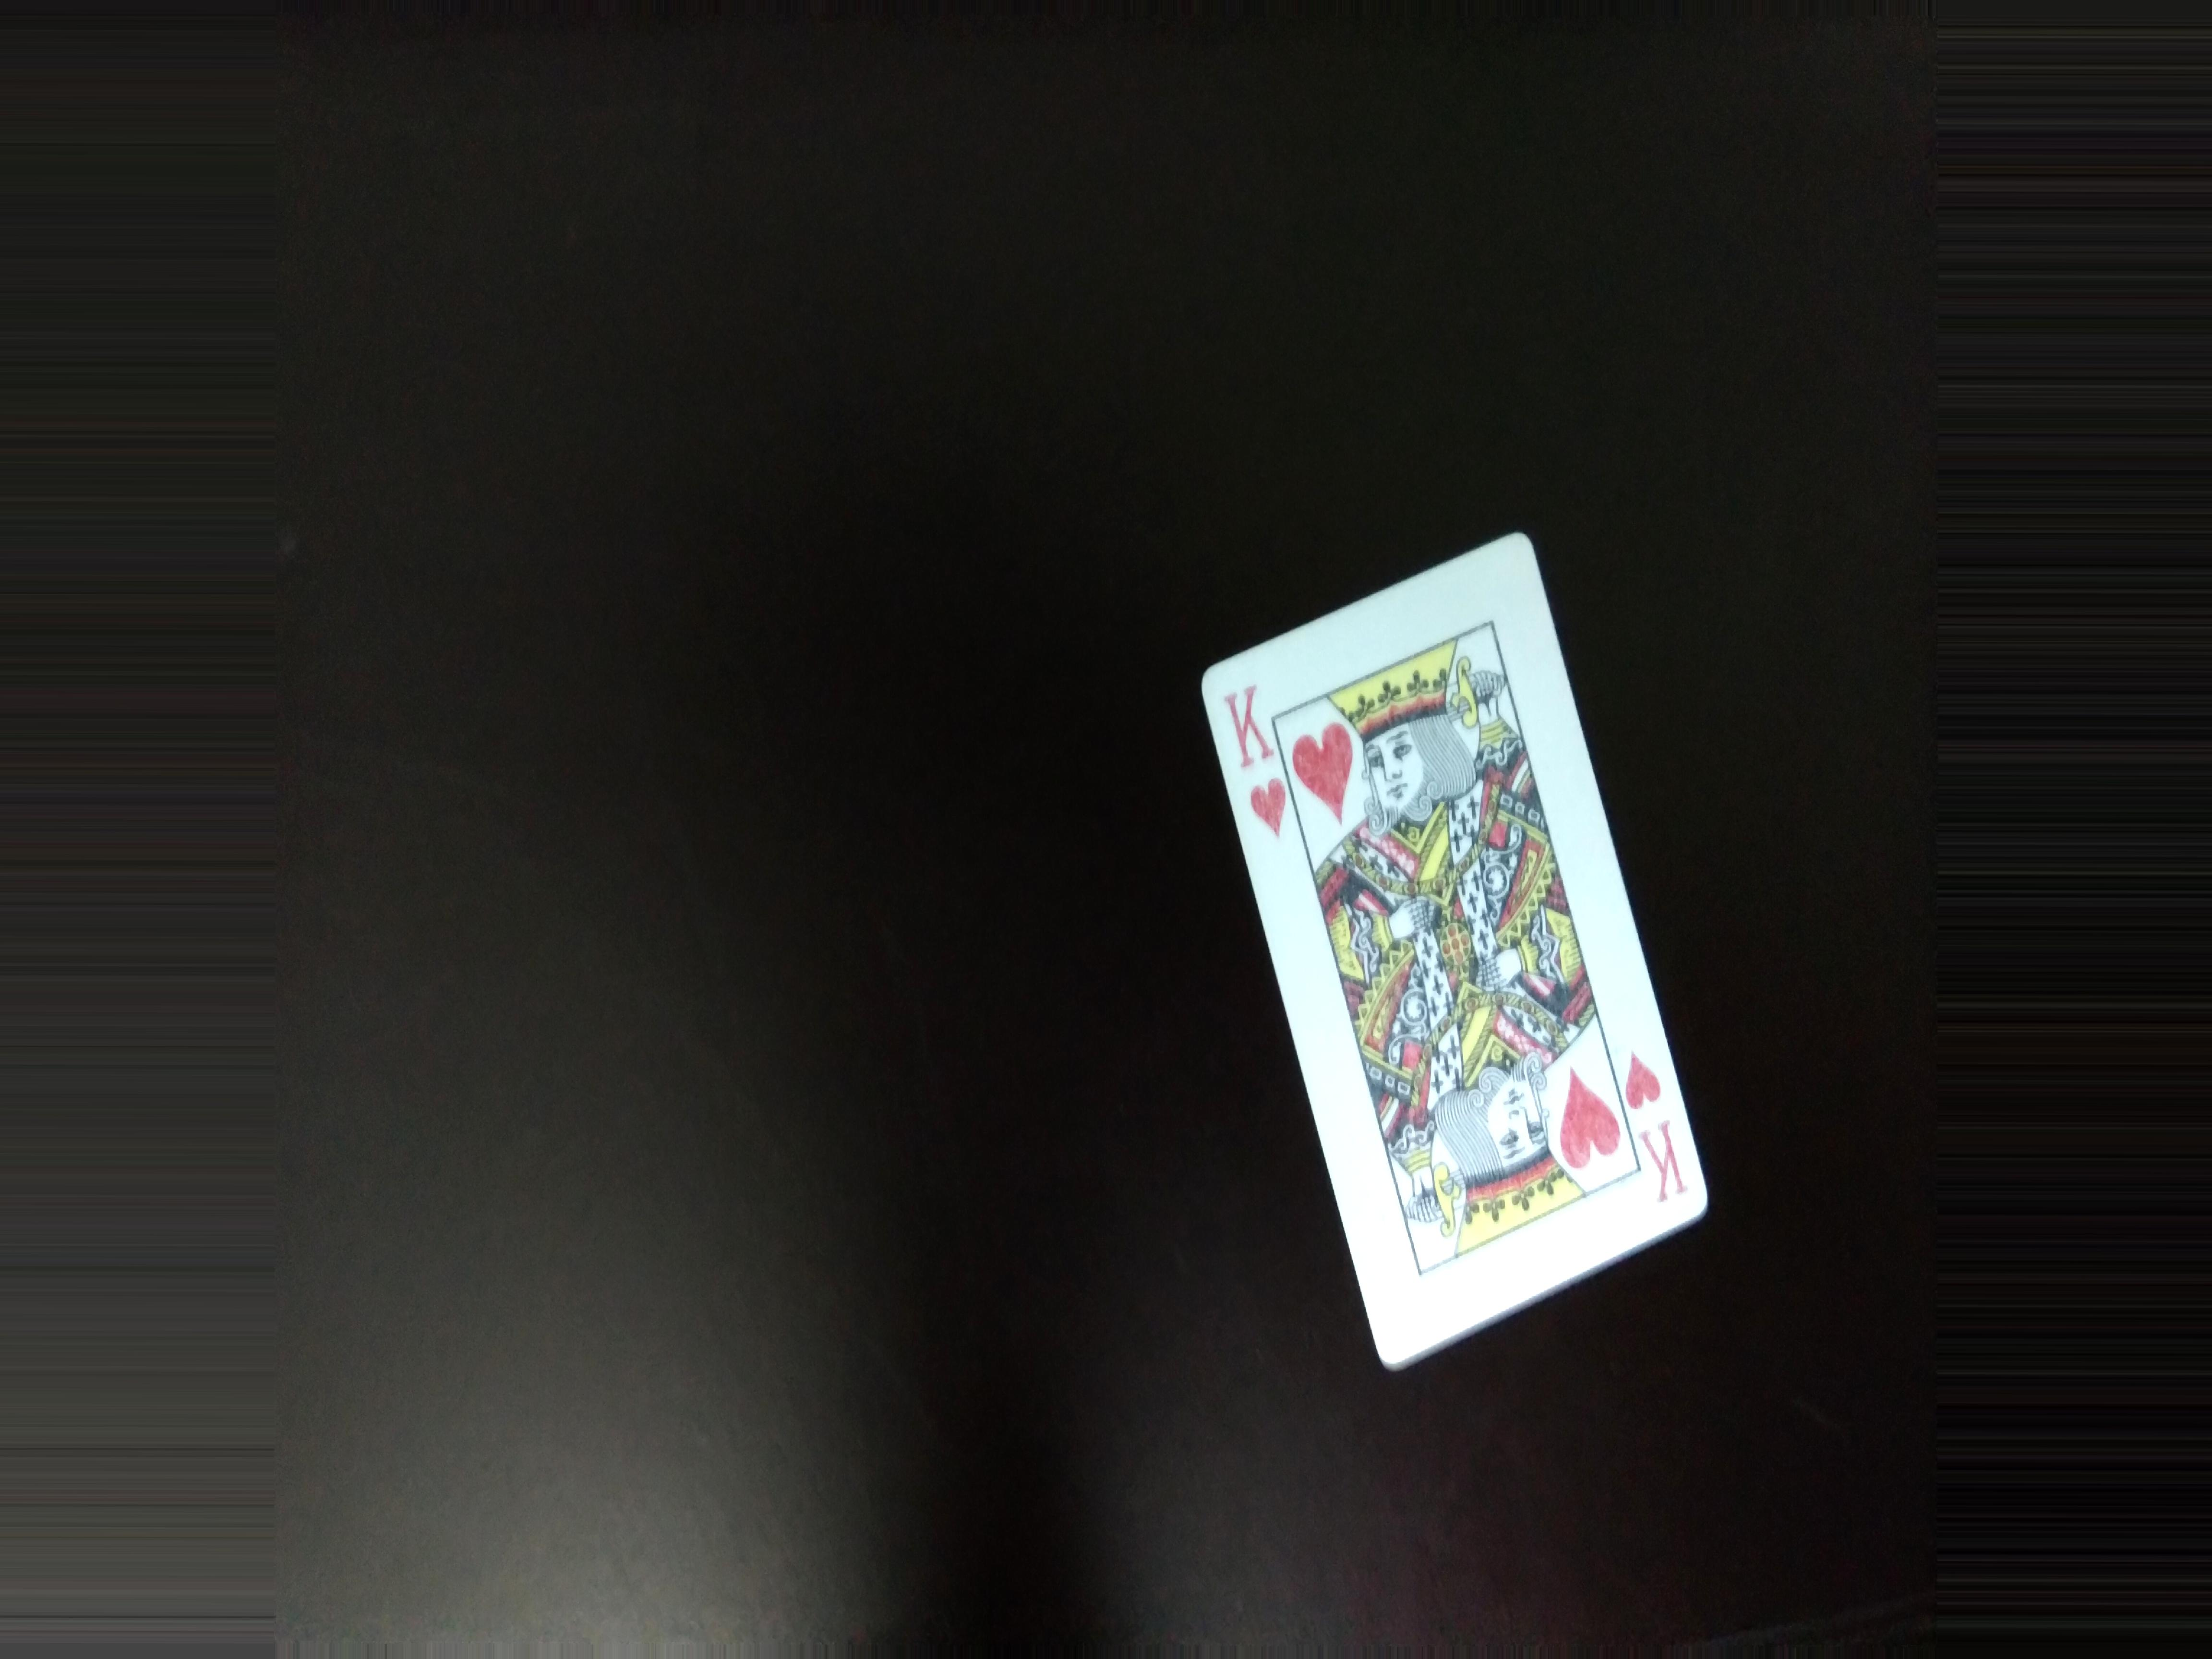KH: (1216, 674, 1287, 838)
